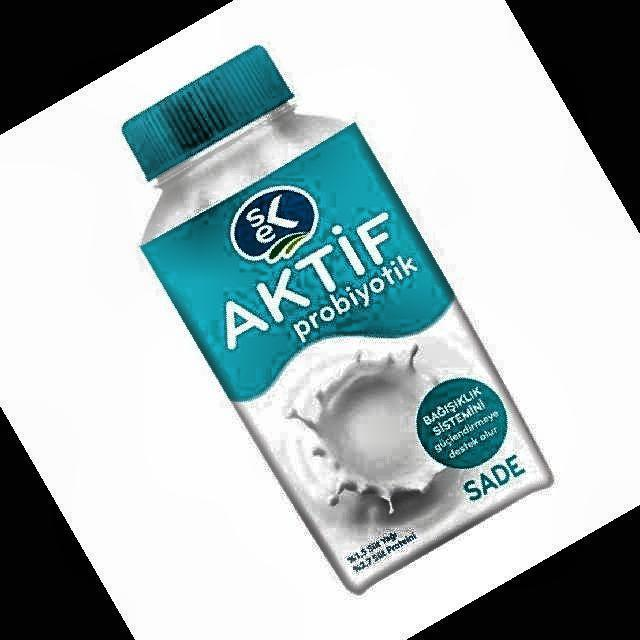plastic: (122, 45, 552, 592)
